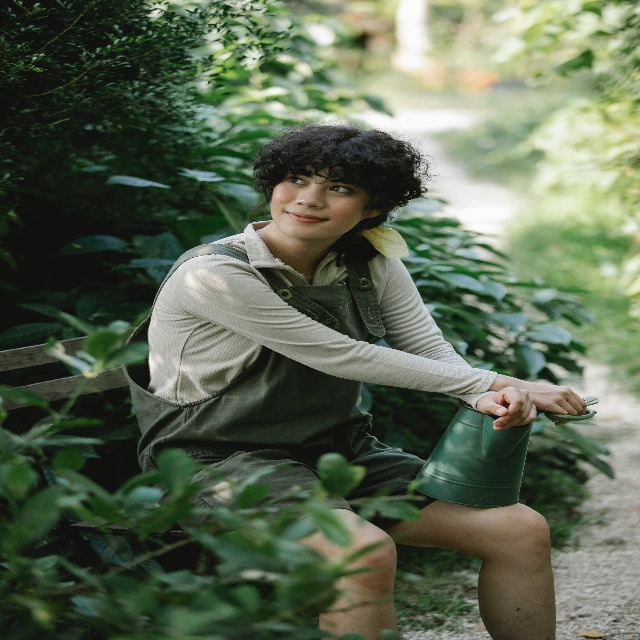Sin_guantes: (496, 372, 587, 418), (477, 388, 537, 431)
